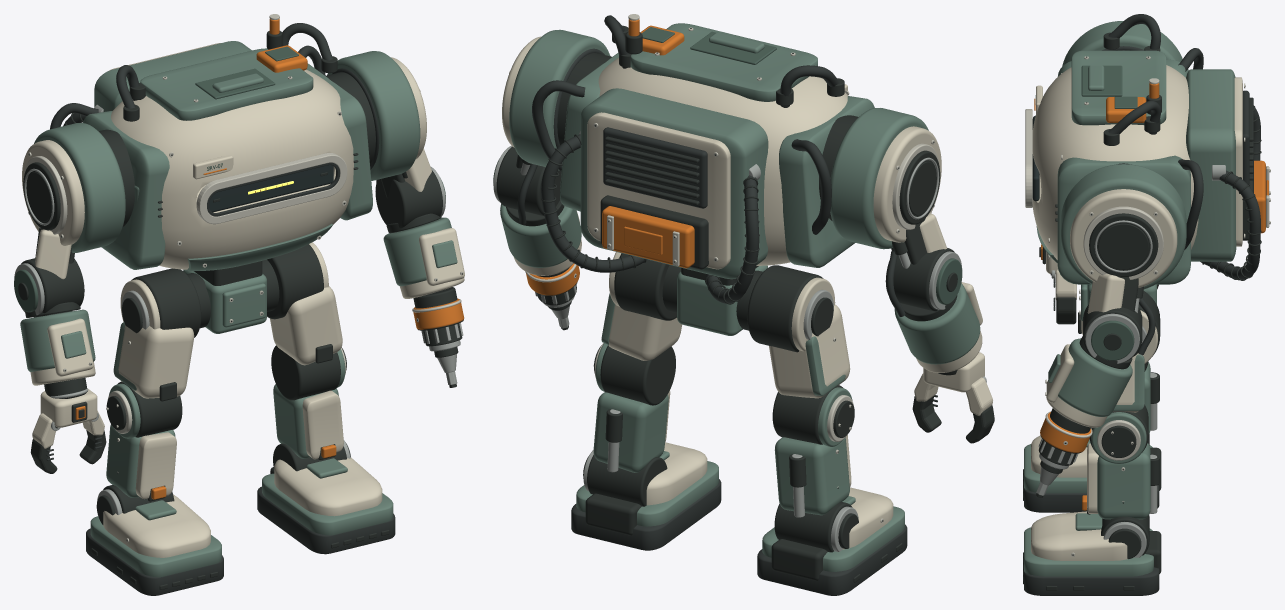
File: service_mech.glb
3 views of the same model, side by side, from view 1: azimuth 30°, elevation 25°; view 2: azimuth 150°, elevation 25°; view 3: azimuth 270°, elevation 25° (orthographic). The views are drawn at different scales.
Parts seen in each view (by area): view 1: 01 | Torso ivory cast clamshell, 06 | Sage top service hatch, 32 | L gripper sage shoulder cast drum, 32 | R tool sage shoulder cast drum, 11 | -1 sage side shell, 100 | L ivory thigh armor, 119 | R ivory upper foot cast, 119 | L ivory upper foot cast, 100 | R ivory thigh armor, 02 | Sensor satin bezel, 11 | +1 sage side shell, 118 | R sage foot bumper (+50 smaller); view 2: 20 | Rear sage power-pack housing, 01 | Torso ivory cast clamshell, 21 | Rear ivory protective rim, 32 | L gripper sage shoulder cast drum, 06 | Sage top service hatch, 11 | -1 sage side shell, 32 | R tool sage shoulder cast drum, 108 | L sage lower leg casting, 108 | R sage lower leg casting, 95 | L outer hip motor, 47 | L gripper sage forearm housing, 100 | L ivory thigh armor (+48 smaller); view 3: 01 | Torso ivory cast clamshell, 20 | Rear sage power-pack housing, 32 | R tool sage shoulder cast drum, 06 | Sage top service hatch, 11 | +1 sage side shell, 33 | R tool ivory shoulder face, 119 | R ivory upper foot cast, 47 | R tool sage forearm housing, 108 | R sage lower leg casting, 117 | R rubber traction sole, 118 | R sage foot bumper, 32 | L gripper sage shoulder cast drum (+48 smaller).
Part boxes in pixels (x1=…): 01 | Torso ivory cast clamshell: x1=111, y1=69, x2=353, y2=269; 06 | Sage top service hatch: x1=140, y1=48, x2=313, y2=120; 32 | L gripper sage shoulder cast drum: x1=34, y1=123, x2=125, y2=252; 32 | R tool sage shoulder cast drum: x1=327, y1=51, x2=420, y2=180; 11 | -1 sage side shell: x1=83, y1=111, x2=169, y2=269; 100 | L ivory thigh armor: x1=118, y1=325, x2=194, y2=398; 119 | R ivory upper foot cast: x1=274, y1=457, x2=382, y2=516; 119 | L ivory upper foot cast: x1=103, y1=494, x2=210, y2=557; 100 | R ivory thigh armor: x1=270, y1=286, x2=342, y2=365; 02 | Sensor satin bezel: x1=196, y1=153, x2=347, y2=224; 11 | +1 sage side shell: x1=306, y1=63, x2=372, y2=220; 118 | R sage foot bumper: x1=262, y1=473, x2=393, y2=535; 20 | Rear sage power-pack housing: x1=580, y1=88, x2=768, y2=279; 01 | Torso ivory cast clamshell: x1=598, y1=57, x2=847, y2=265; 21 | Rear ivory protective rim: x1=587, y1=112, x2=730, y2=269; 32 | L gripper sage shoulder cast drum: x1=830, y1=108, x2=928, y2=249; 06 | Sage top service hatch: x1=630, y1=23, x2=817, y2=101; 11 | -1 sage side shell: x1=779, y1=96, x2=874, y2=267; 32 | R tool sage shoulder cast drum: x1=509, y1=29, x2=610, y2=170; 108 | L sage lower leg casting: x1=774, y1=437, x2=849, y2=515; 108 | R sage lower leg casting: x1=593, y1=392, x2=668, y2=472; 95 | L outer hip motor: x1=747, y1=265, x2=823, y2=352; 47 | L gripper sage forearm housing: x1=894, y1=283, x2=980, y2=364; 100 | L ivory thigh armor: x1=769, y1=304, x2=850, y2=398; 01 | Torso ivory cast clamshell: x1=1032, y1=65, x2=1198, y2=259; 20 | Rear sage power-pack housing: x1=1186, y1=69, x2=1236, y2=261; 32 | R tool sage shoulder cast drum: x1=1060, y1=164, x2=1186, y2=289; 06 | Sage top service hatch: x1=1071, y1=50, x2=1166, y2=125; 11 | +1 sage side shell: x1=1057, y1=155, x2=1190, y2=284; 33 | R tool ivory shoulder face: x1=1070, y1=189, x2=1177, y2=287; 119 | R ivory upper foot cast: x1=1031, y1=511, x2=1133, y2=560; 47 | R tool sage forearm housing: x1=1058, y1=338, x2=1132, y2=416; 108 | R sage lower leg casting: x1=1097, y1=443, x2=1150, y2=519; 117 | R rubber traction sole: x1=1024, y1=567, x2=1159, y2=595; 118 | R sage foot bumper: x1=1024, y1=527, x2=1153, y2=576; 32 | L gripper sage shoulder cast drum: x1=1062, y1=21, x2=1182, y2=66.
Bounding box in the file's own units: 2.58 × 2.8 × 1.29.
